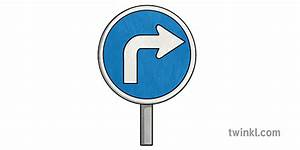right: (97, 4, 198, 105)
